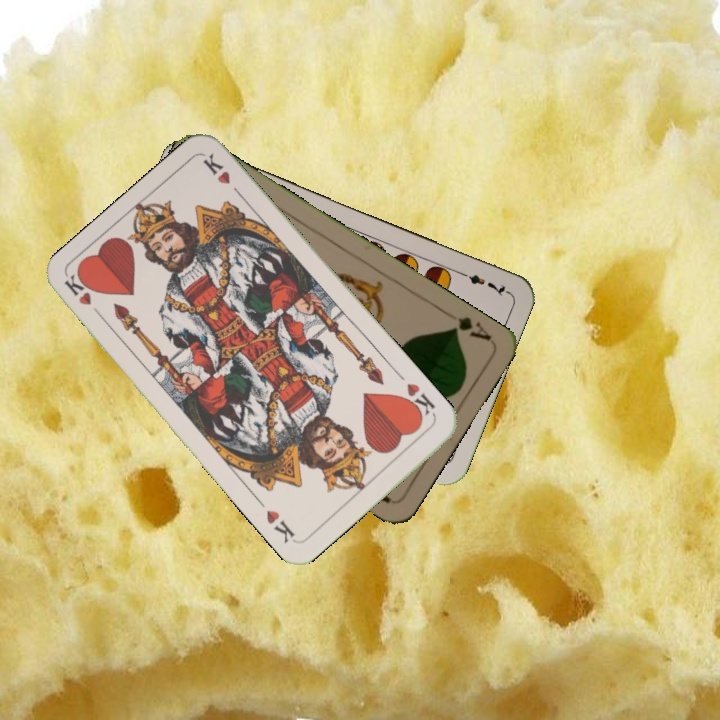E7: (454, 267, 511, 299)
GA: (440, 307, 495, 344)
HK: (61, 271, 108, 323), (397, 379, 438, 422)
